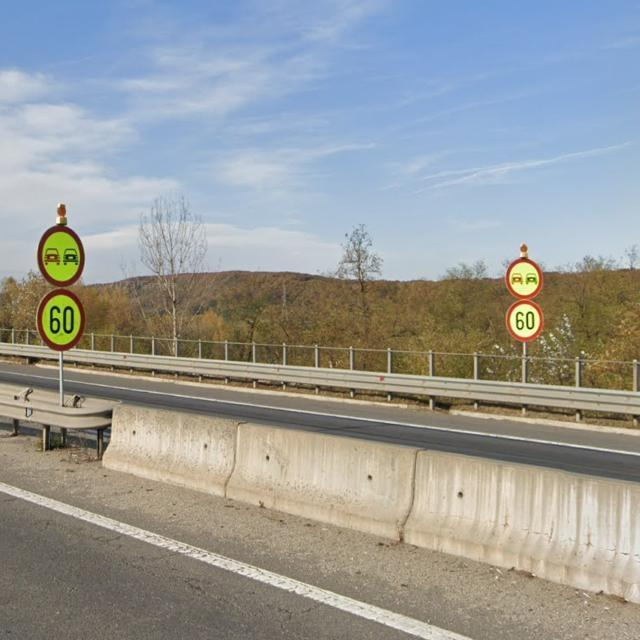forb_overtake: (37, 223, 86, 286), (506, 258, 543, 300)
forb_speed_over_60: (37, 288, 87, 349), (506, 301, 544, 343)
